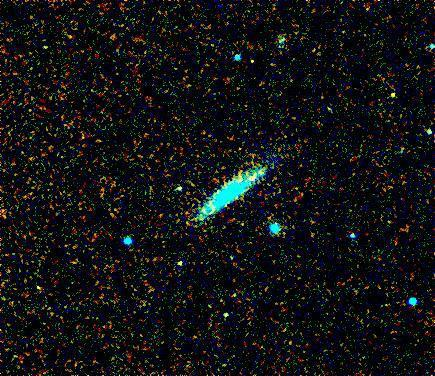star: (380, 83, 410, 113)
